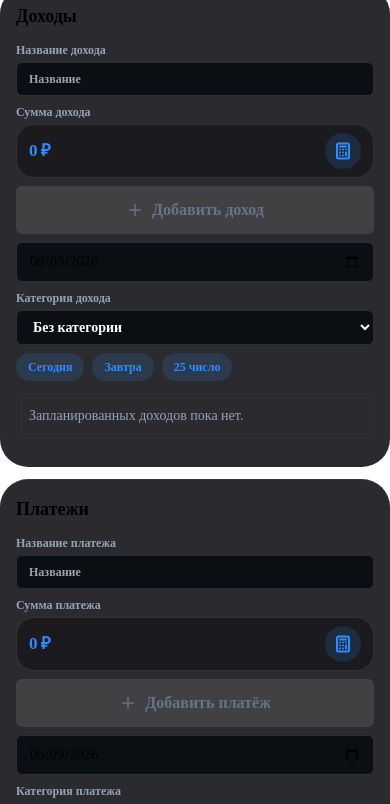
Test: PlanScreen › lets the user choose an optional category for a fixed payment
Type "Платёж по кредиту" into the field labelled "Название платежа" at (195,572), box [16,555,374,589]
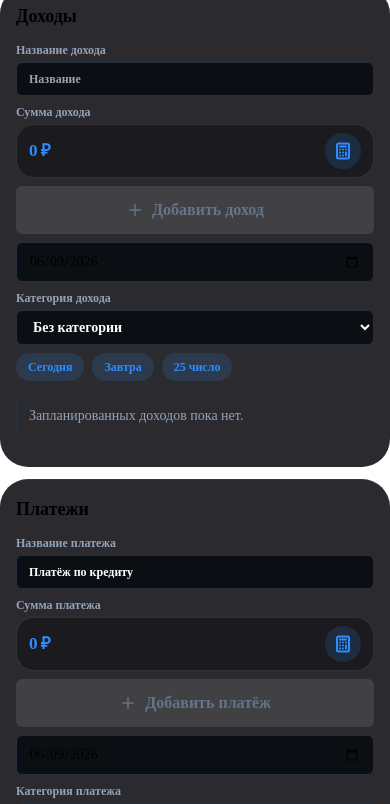
Replace the text in the field named "Сумма платежа" with "10000" at (195,642), box [16,613,374,671]
(page scrolled)
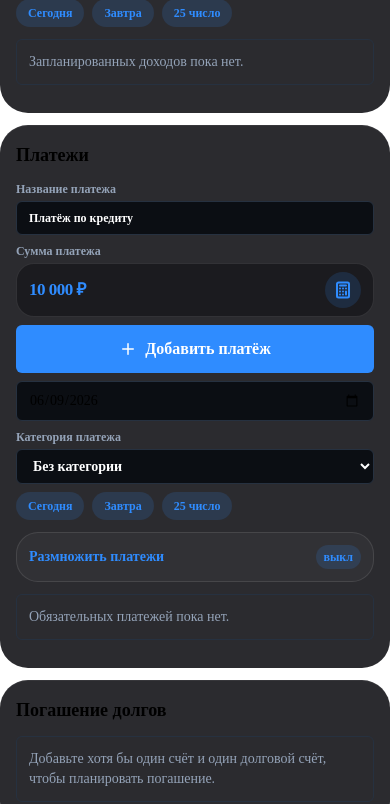
Select "Кредиты" in the dropdown labelled "Категория платежа" at (195,466), box [16,449,374,484]
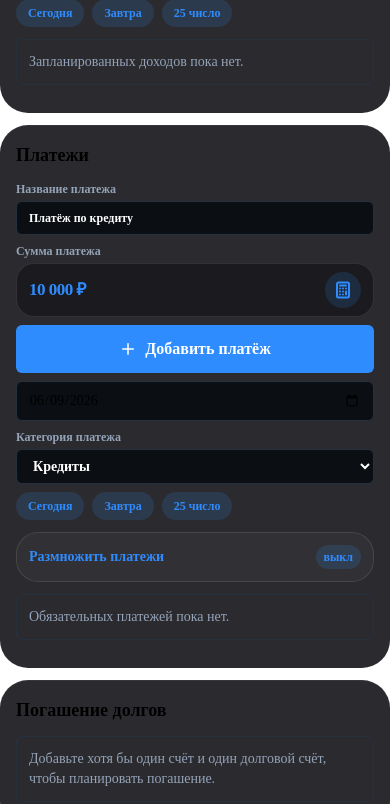
Click the button labelled "Добавить платёж" at (195,349), box [16,325,374,373]
(page scrolled)
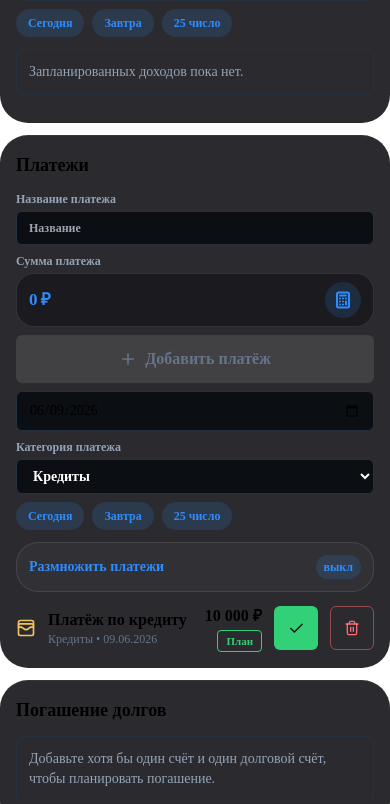
expect the text "Платёж по кредиту" is shown: met, box [48,609,193,631]
